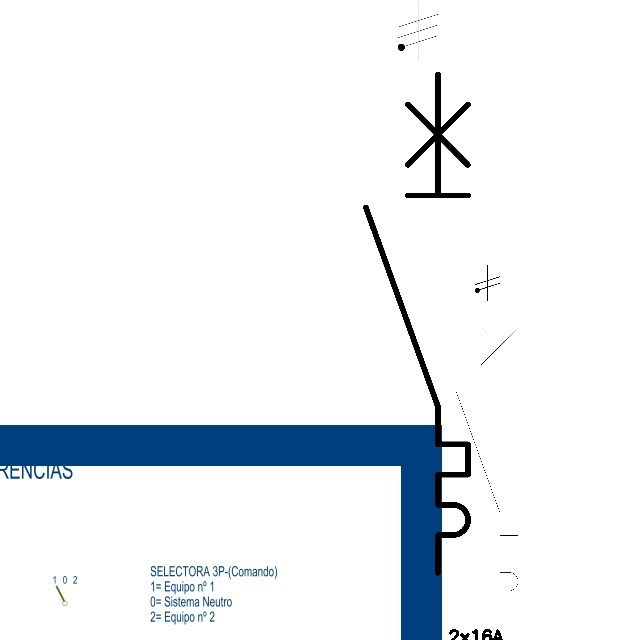interruptor_termomagnetico: (353, 61, 481, 586), (448, 301, 526, 621)
